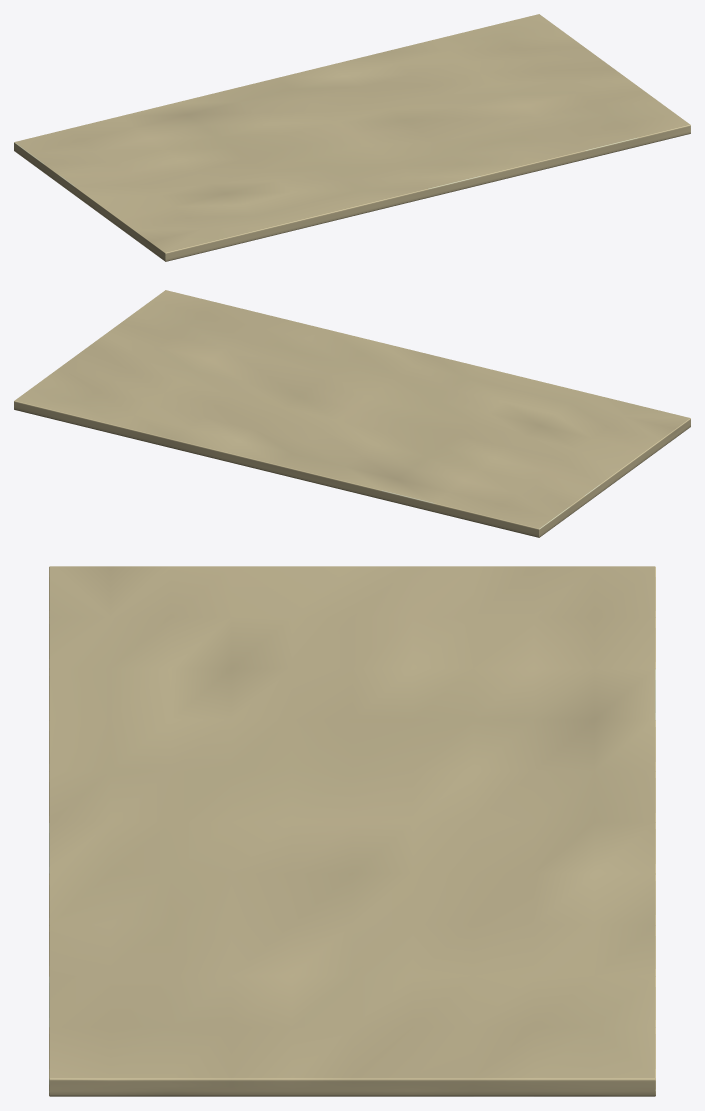
File: SM_Wardrobe_Ceiling.fbx
3 renders of one model, top to bottom at view 1: azimuth 30°, elevation 25°; view 2: azimuth 150°, elevation 25°; view 3: azimuth 270°, elevation 25°, orthographic. The views are drawn at different scales.
Parts seen in each view (by area): view 1: SM_Wardrobe_Ceiling; view 2: SM_Wardrobe_Ceiling; view 3: SM_Wardrobe_Ceiling.
Part boxes in pixels (x1=…): SM_Wardrobe_Ceiling: x1=14, y1=14, x2=690, y2=261; SM_Wardrobe_Ceiling: x1=14, y1=290, x2=690, y2=537; SM_Wardrobe_Ceiling: x1=49, y1=566, x2=655, y2=1096.
Bounding box in the file's own units: 1200 × 50.48 × 600.
